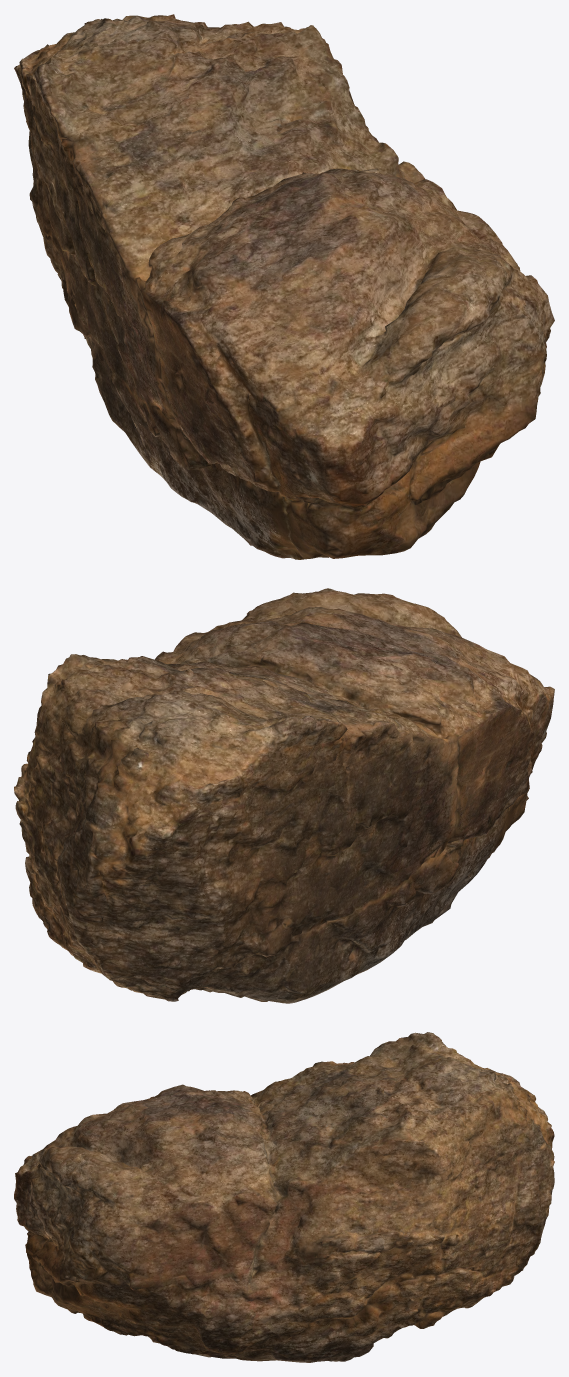
Rendered from boulder_06.glb.
3 renders of one model, top to bottom at view 1: azimuth 30°, elevation 25°; view 2: azimuth 150°, elevation 25°; view 3: azimuth 270°, elevation 25°, orthographic. The views are drawn at different scales.
Parts seen in each view (by area): view 1: namaqualand_boulder_06; view 2: namaqualand_boulder_06; view 3: namaqualand_boulder_06.
Boxes of the visible parts, x1,y1,x2,y2 form: namaqualand_boulder_06: [14, 14, 554, 559]; namaqualand_boulder_06: [14, 588, 554, 1003]; namaqualand_boulder_06: [14, 1032, 554, 1362].
Size of the model in its own units: 0.6747 by 0.6516 by 1.21.
Materials: 1 (1 with a texture image).
